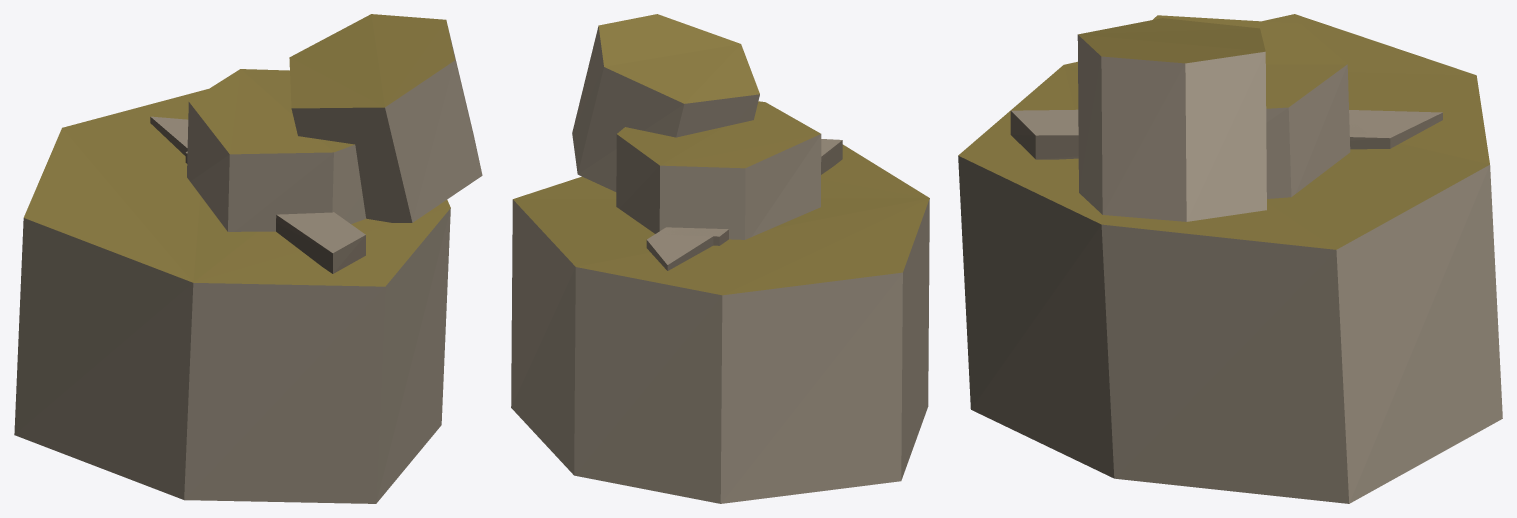
The model's file is rock.ledge__stacked__spring.glb.
3 renders of one model, left to right at view 1: azimuth 30°, elevation 25°; view 2: azimuth 150°, elevation 25°; view 3: azimuth 270°, elevation 25°, orthographic. The views are drawn at different scales.
Parts seen in each view (by area): view 1: rock.ledge; view 2: rock.ledge; view 3: rock.ledge.
Part boxes in pixels (left/top/right/bottom): rock.ledge: left=14, top=14, right=482, bottom=503; rock.ledge: left=511, top=14, right=929, bottom=503; rock.ledge: left=958, top=14, right=1502, bottom=503.
Size of the model in its own units: 3.09 by 2.73 by 3.08.
